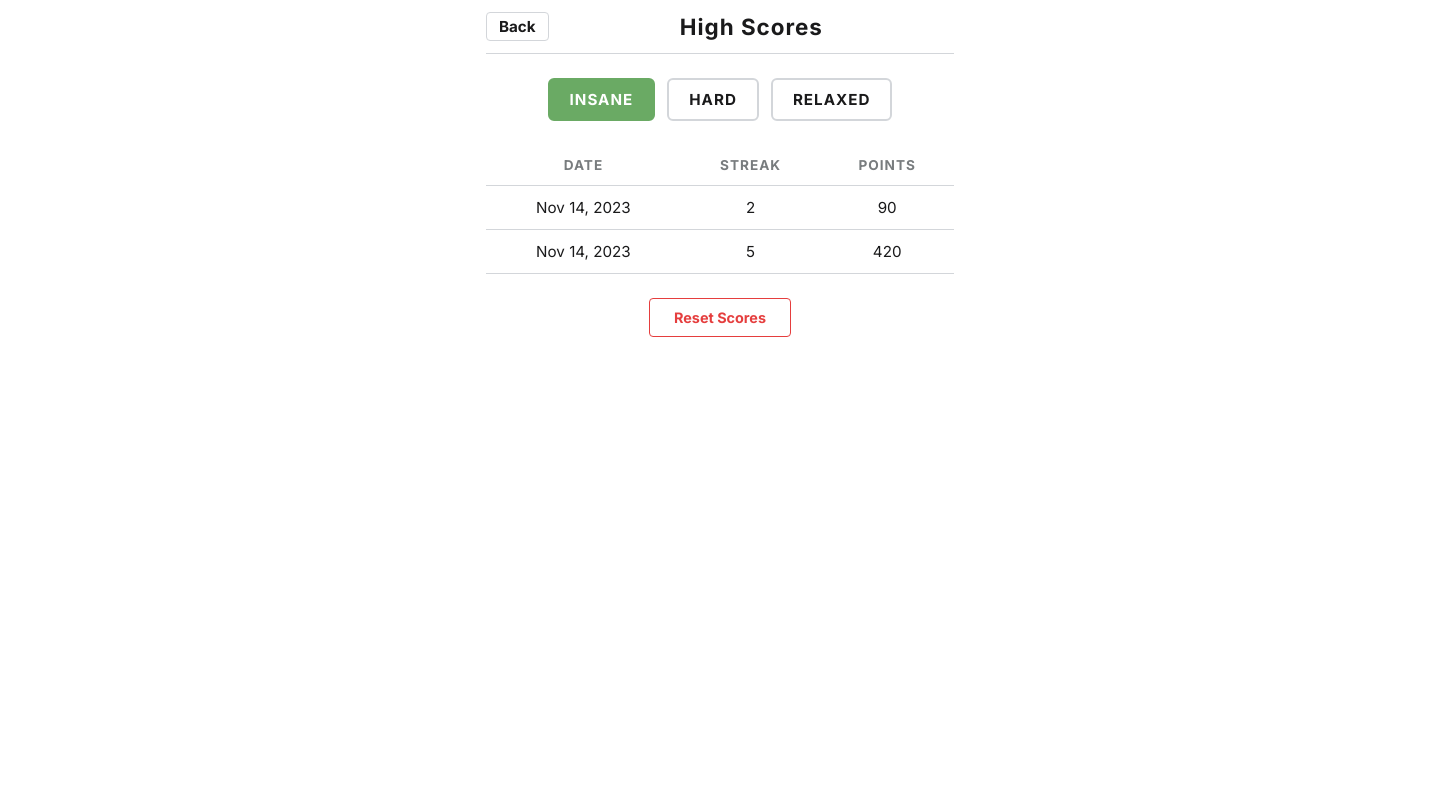
HighScoresPage › shows reset confirmation when reset clicked
Click the button "Reset Scores": click(720, 318) [649,298,791,337]
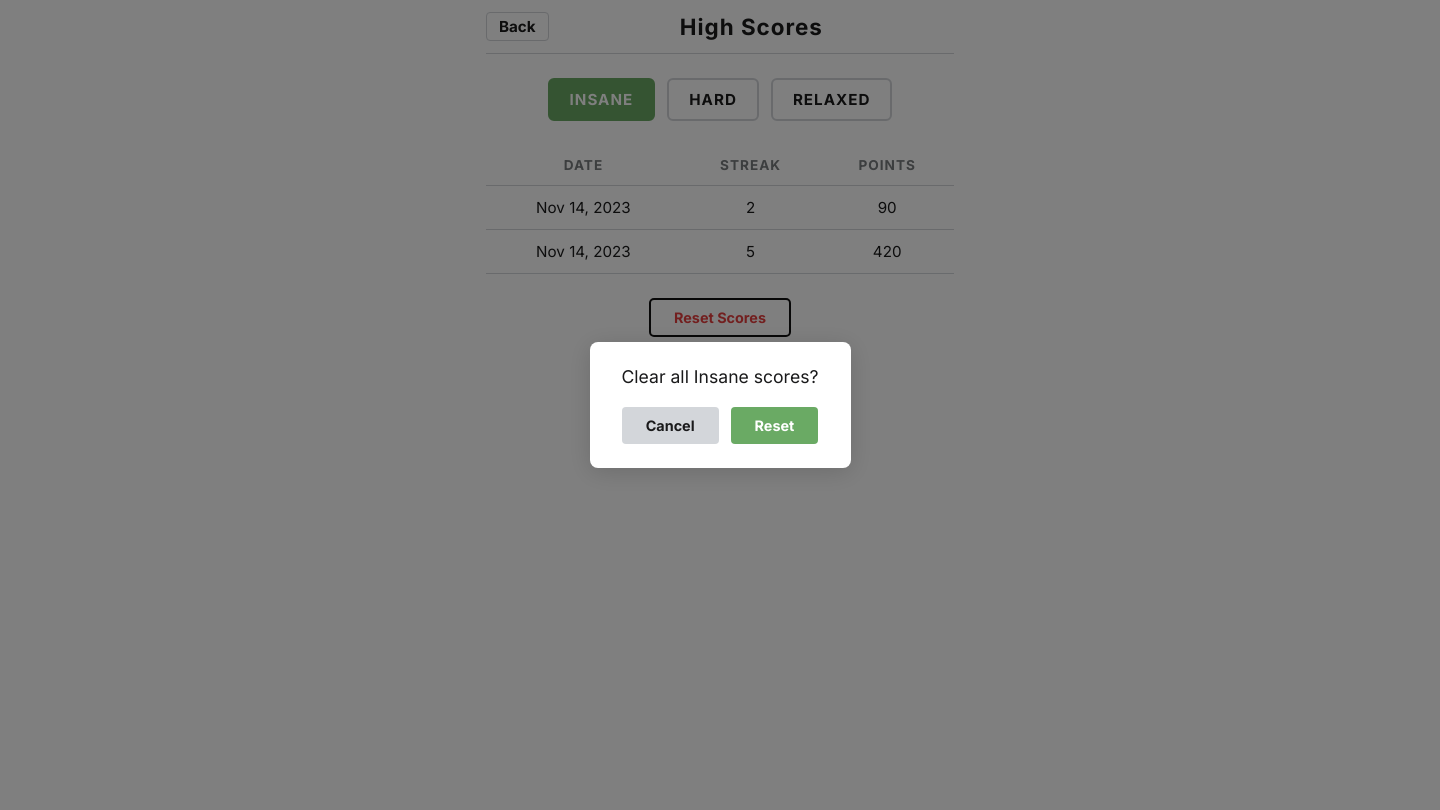
expect the text "Clear all Insane scores?" is shown: met, box [622,366,818,387]
